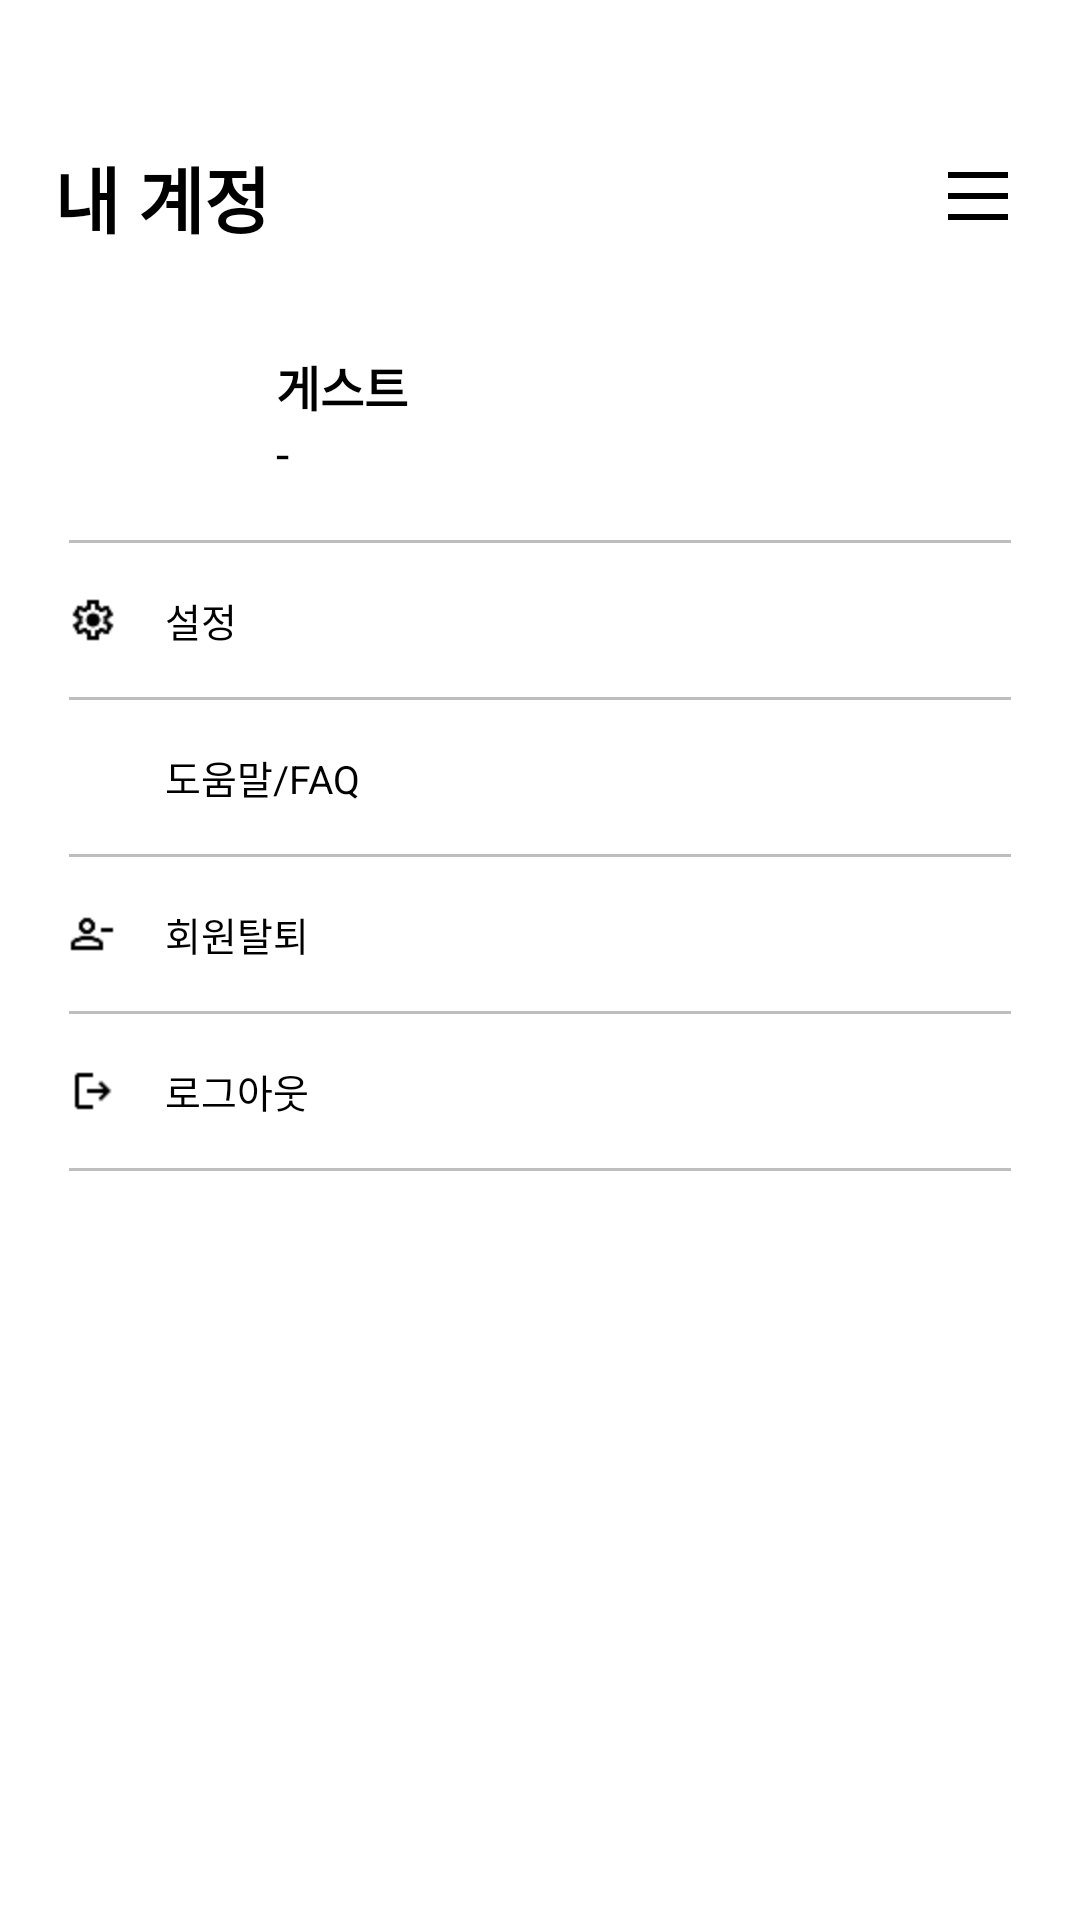

Icon bounding boxes for this 1080px x 1920px phone screenshot, format (x1, y1, x2, y2):
setting: (72, 599, 114, 641)
withdraw: (70, 917, 114, 951)
